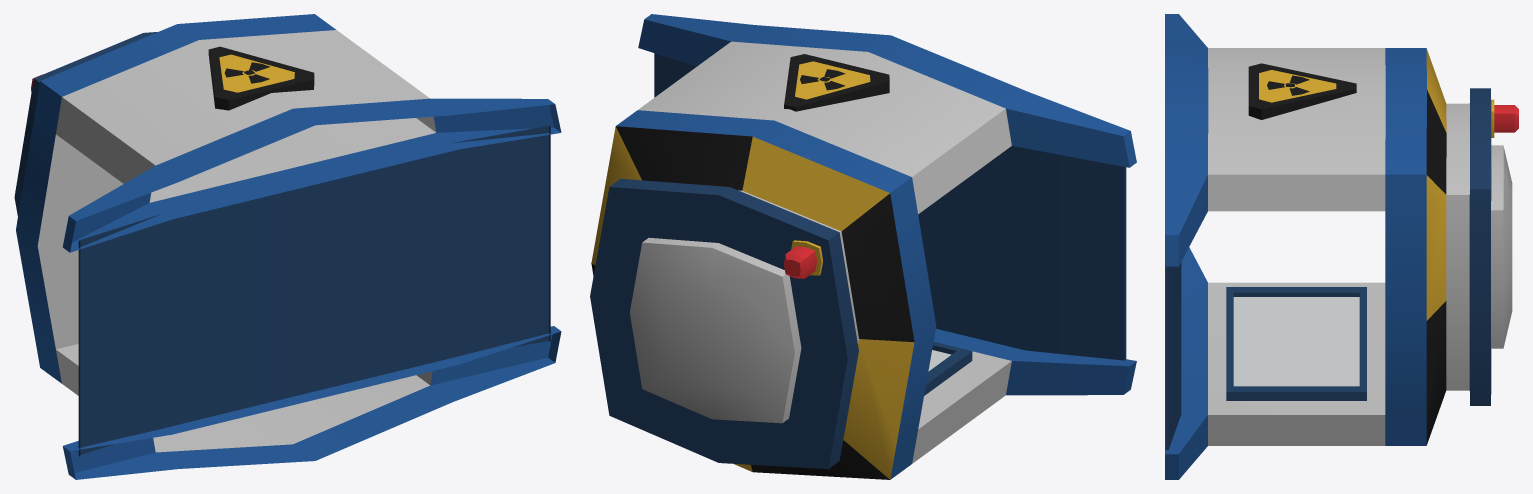
File: Machine 08.FBX
3 views of the same model, side by side, from view 1: azimuth 30°, elevation 25°; view 2: azimuth 150°, elevation 25°; view 3: azimuth 270°, elevation 25° (orthographic). The views are drawn at different scales.
Parts seen in each view (by area): view 1: Machine 08; view 2: Machine 08; view 3: Machine 08.
Boxes of the visible parts, x1,y1,x2,y2 form: Machine 08: [14, 14, 561, 479]; Machine 08: [590, 14, 1136, 479]; Machine 08: [1165, 14, 1518, 479].
Bounding box in the file's own units: 463 × 306 × 305.
1 material, 1 textured.
